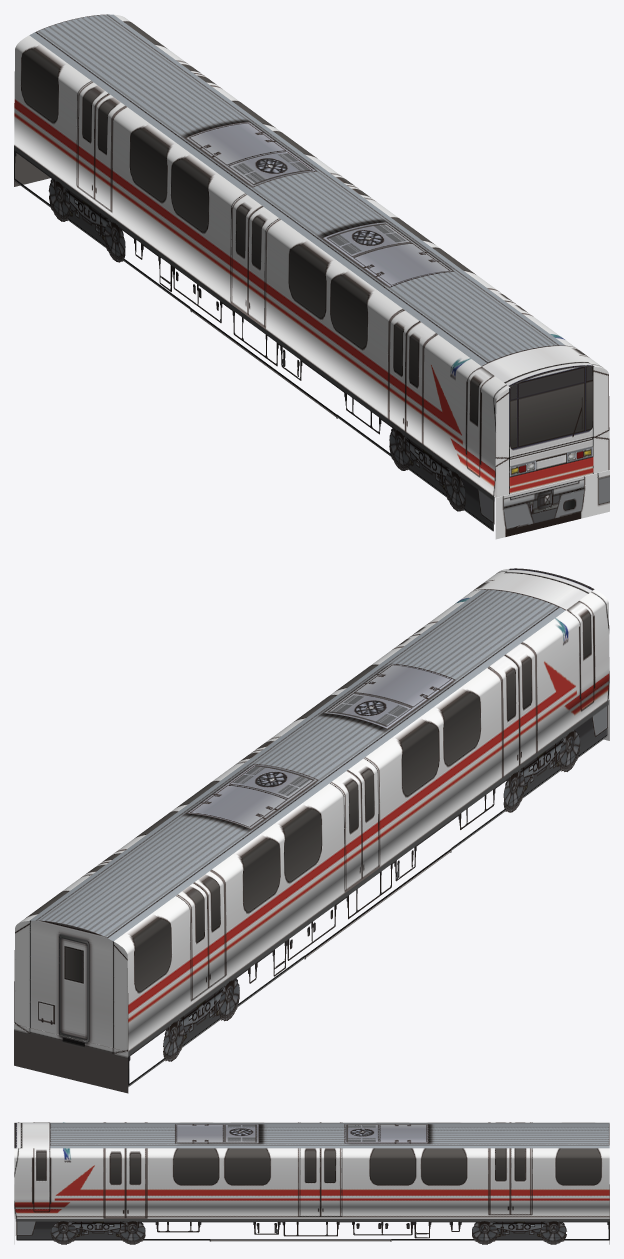
File: car1.glb
3 views of the same model, one above another, from view 1: azimuth 30°, elevation 25°; view 2: azimuth 150°, elevation 25°; view 3: azimuth 270°, elevation 25° (orthographic). The views are drawn at different scales.
Parts seen in each view (by area): view 1: meitetsu-1200-car1; view 2: meitetsu-1200-car1; view 3: meitetsu-1200-car1.
Part boxes in pixels (x1,y1,x2,y2): meitetsu-1200-car1: (14, 14, 609, 539); meitetsu-1200-car1: (14, 568, 609, 1093); meitetsu-1200-car1: (14, 1122, 609, 1244).
Size of the model in its own units: 2.74 by 3.52 by 20.03.
Materials: 9 (8 with a texture image).
